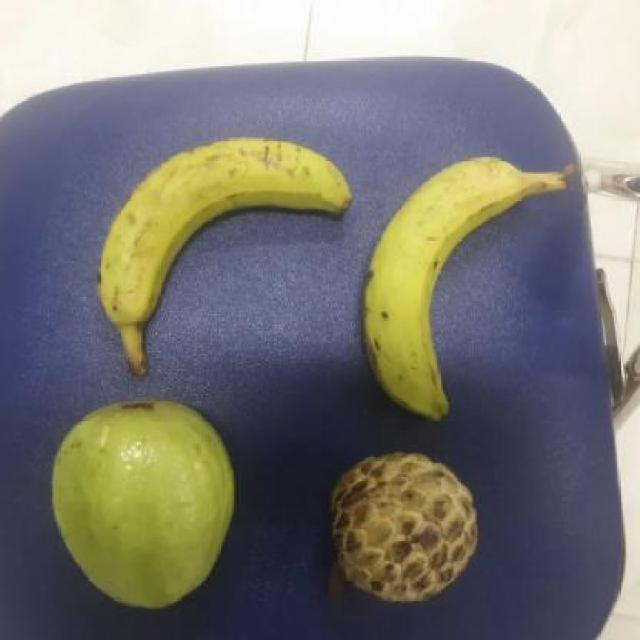banana: (92, 131, 363, 337), (361, 150, 541, 427)
guava: (48, 391, 245, 609)
sugar apple: (324, 444, 485, 604)
